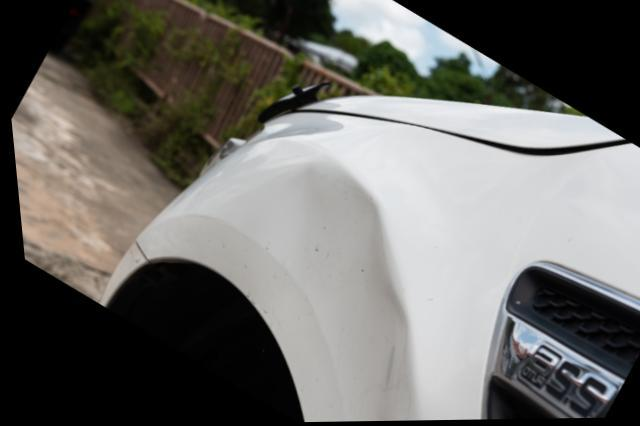dent: (247, 166, 406, 423)
